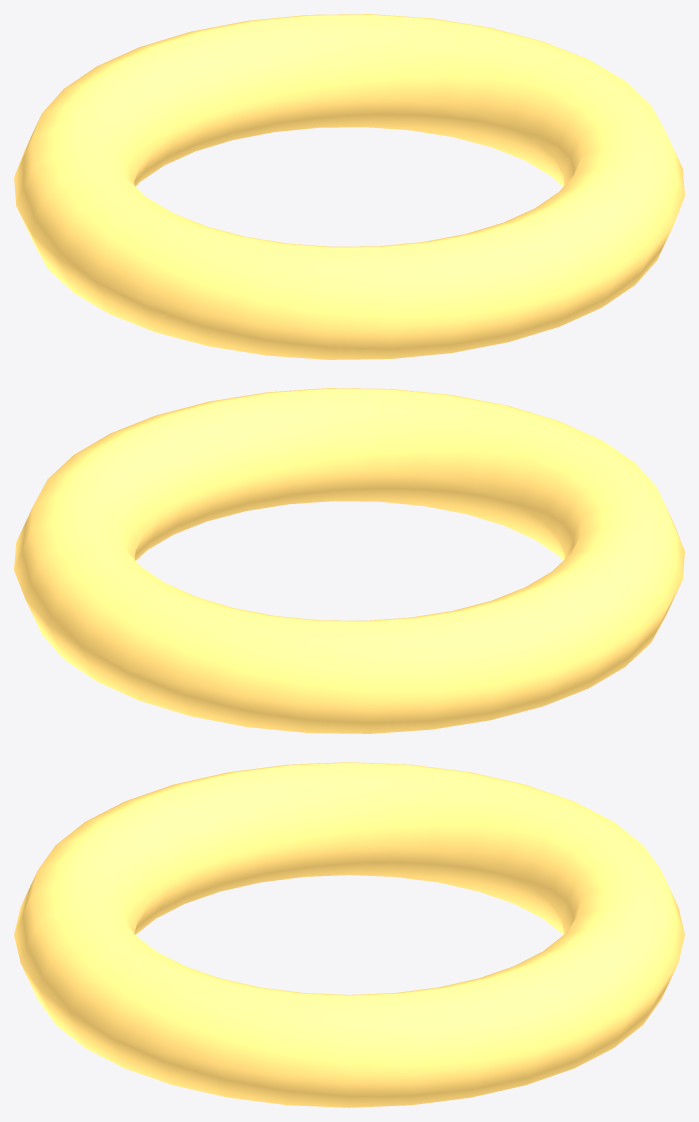
Rendered from Hint.glb.
3 renders of one model, top to bottom at view 1: azimuth 30°, elevation 25°; view 2: azimuth 150°, elevation 25°; view 3: azimuth 270°, elevation 25°, orthographic.
Visible parts, largest first — view 1: Hint; view 2: Hint; view 3: Hint.
Part boxes in pixels (x1,y1,x2,y2): Hint: (14, 14, 684, 359); Hint: (14, 388, 684, 733); Hint: (14, 762, 684, 1107).
Bounding box in the file's own units: 0.268 × 0.048 × 0.268.
